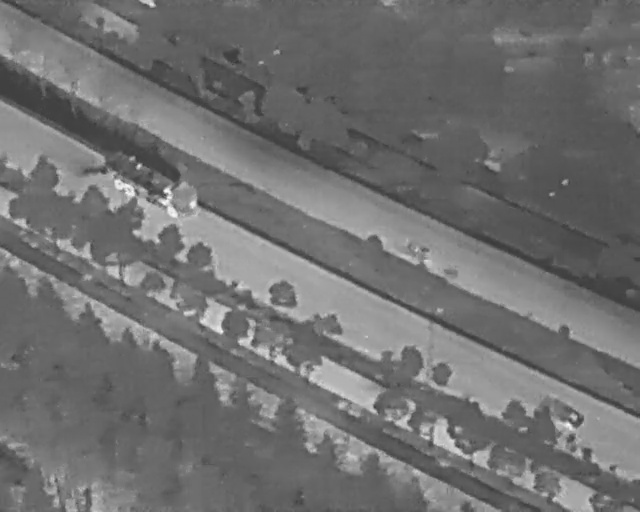Car: (535, 394, 587, 433)
OtherVehicle: (97, 145, 208, 226)
